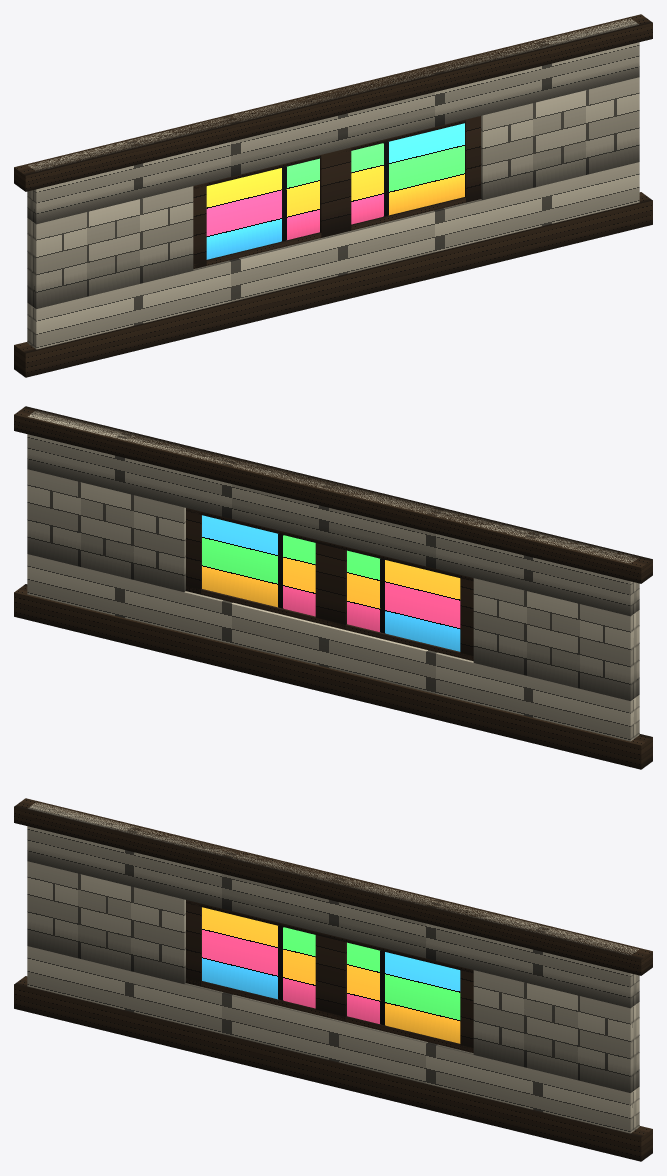
File: wall_window_plaster.gltf
3 renders of one model, top to bottom at view 1: azimuth 30°, elevation 25°; view 2: azimuth 150°, elevation 25°; view 3: azimuth 330°, elevation 25°, orthographic.
Parts seen in each view (by area): view 1: wall_window_plaster; view 2: wall_window_plaster; view 3: wall_window_plaster.
Part boxes in pixels (bbox=[...]): wall_window_plaster: bbox=[14, 14, 652, 377]; wall_window_plaster: bbox=[14, 406, 652, 769]; wall_window_plaster: bbox=[14, 798, 652, 1161].
Size of the model in its own units: 1.04 by 0.32 by 0.0336.
Materials: 1 (1 with a texture image).
